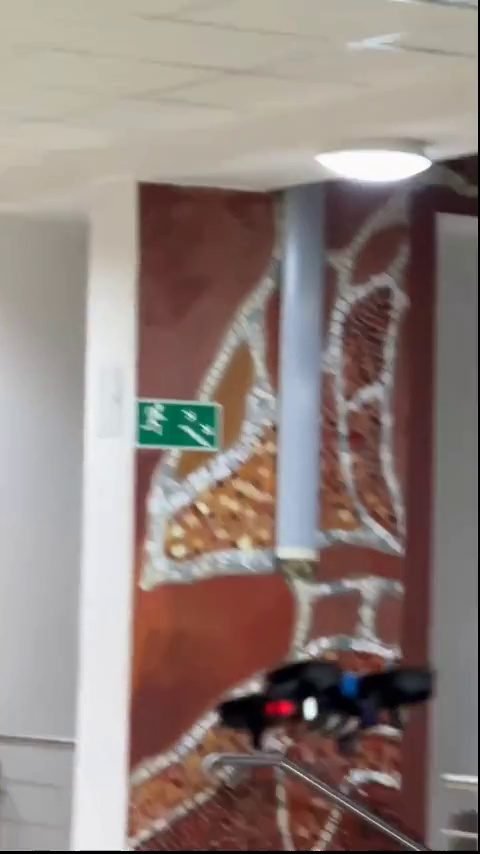drone: (216, 656, 437, 741)
